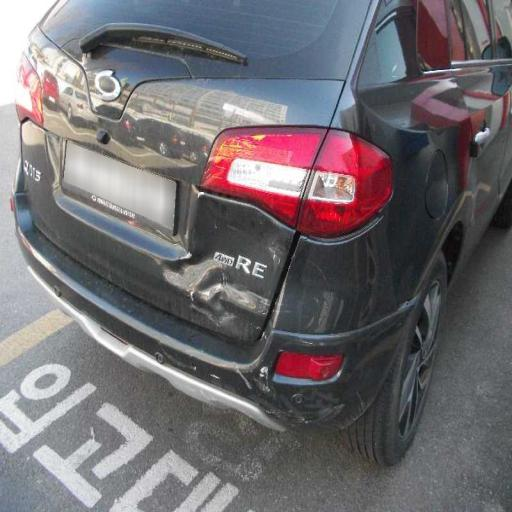dent: (126, 161, 348, 372)
scratch: (62, 35, 269, 159)
